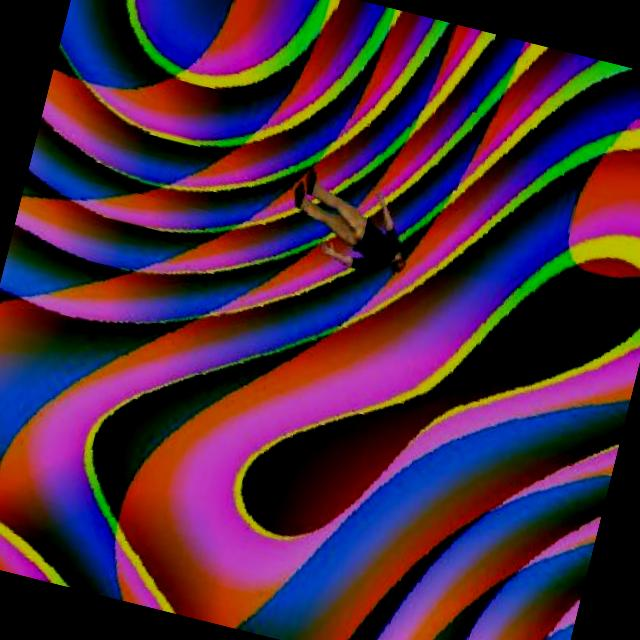Person: (278, 161, 423, 283)
